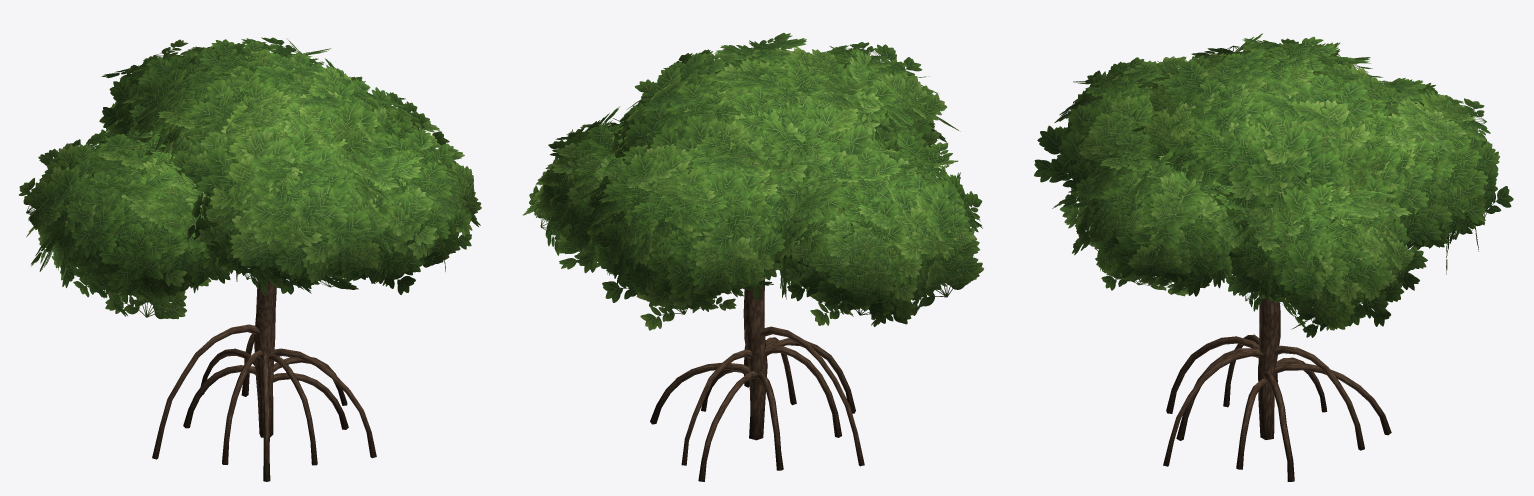
File: mangrove_b_lod1.glb
3 views of the same model, side by side, from view 1: azimuth 30°, elevation 25°; view 2: azimuth 150°, elevation 25°; view 3: azimuth 270°, elevation 25° (orthographic). The views are drawn at different scales.
Parts seen in each view (by area): view 1: leaves, wood; view 2: leaves, wood; view 3: leaves, wood.
Boxes of the visible parts, bbox=[...] form: leaves: bbox=[19, 37, 481, 319]; wood: bbox=[152, 277, 376, 481]; leaves: bbox=[522, 33, 983, 330]; wood: bbox=[650, 263, 864, 481]; leaves: bbox=[1034, 33, 1513, 337]; wood: bbox=[1163, 295, 1391, 481].
Bounding box in the file's own units: 10.84 × 9.43 × 10.37.
Materials: 2 (2 with a texture image).
